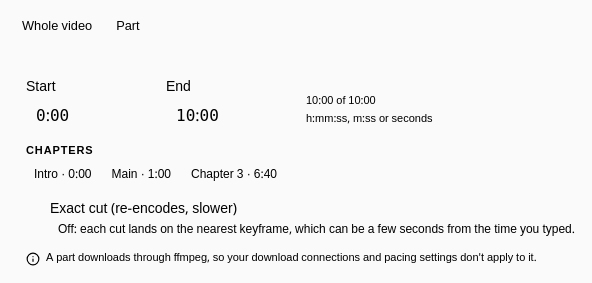
Test: Part of video on the Format screen › says what is wrong with a range that cannot be downloaded
This screenshot has width=592, height=283.
Replace the text in the field with test id "video-part-end" with "12:00" at (230, 115), box [166, 99, 294, 131]
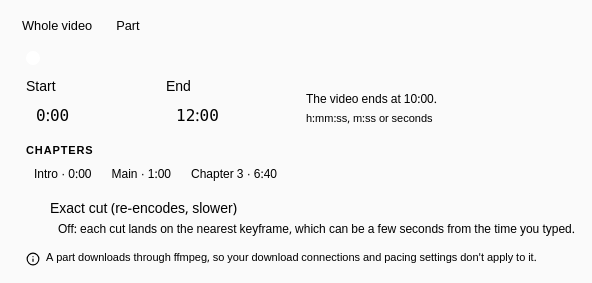
Result: the message with test id "video-part-error" reads "The video ends at 10:00." at [306, 90, 437, 107]
